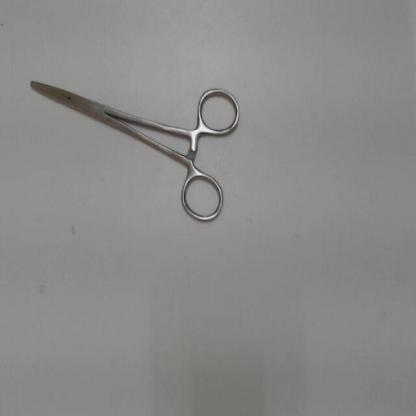Mayo Needle Holder: (22, 68, 246, 230)
